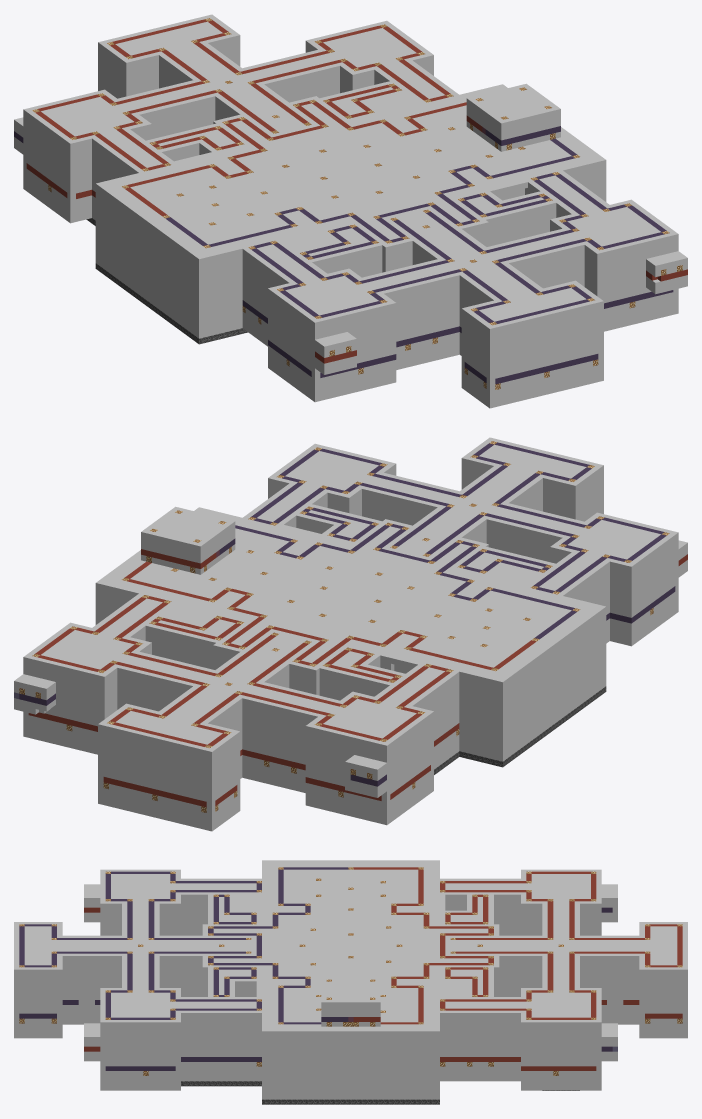
File: minecraft.obj
3 views of the same model, one above another, from view 1: azimuth 30°, elevation 25°; view 2: azimuth 150°, elevation 25°; view 3: azimuth 270°, elevation 25° (orthographic). The views are drawn at different scales.
Size of the model in its own units: 75 by 20 by 125.
